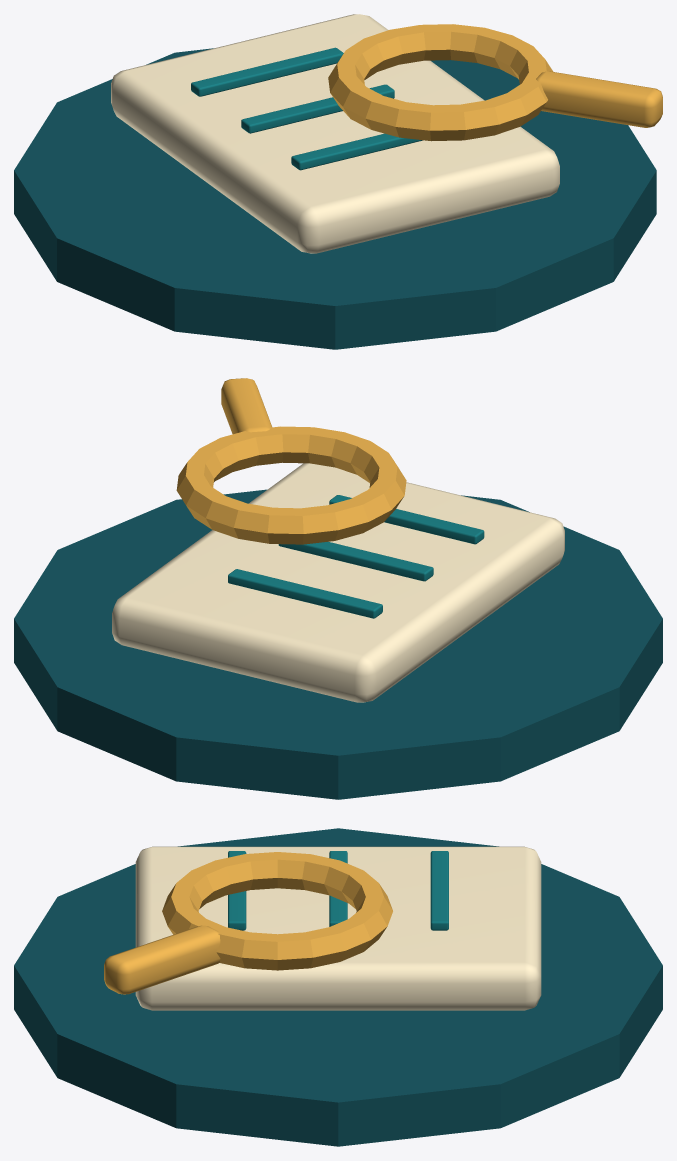
File: Icon_Inspection.fbx
3 views of the same model, one above another, from view 1: azimuth 30°, elevation 25°; view 2: azimuth 150°, elevation 25°; view 3: azimuth 270°, elevation 25° (orthographic).
Visible parts, largest first — view 1: Icon_Inspection_Static; view 2: Icon_Inspection_Static; view 3: Icon_Inspection_Static.
Part boxes in pixels (box(x1,y1,x2,y2)): Icon_Inspection_Static: box(14, 14, 662, 349); Icon_Inspection_Static: box(14, 378, 662, 799); Icon_Inspection_Static: box(14, 828, 662, 1146).
Size of the model in its own units: 1.6 by 0.415 by 1.6.
Materials: 1 (1 with a texture image).
